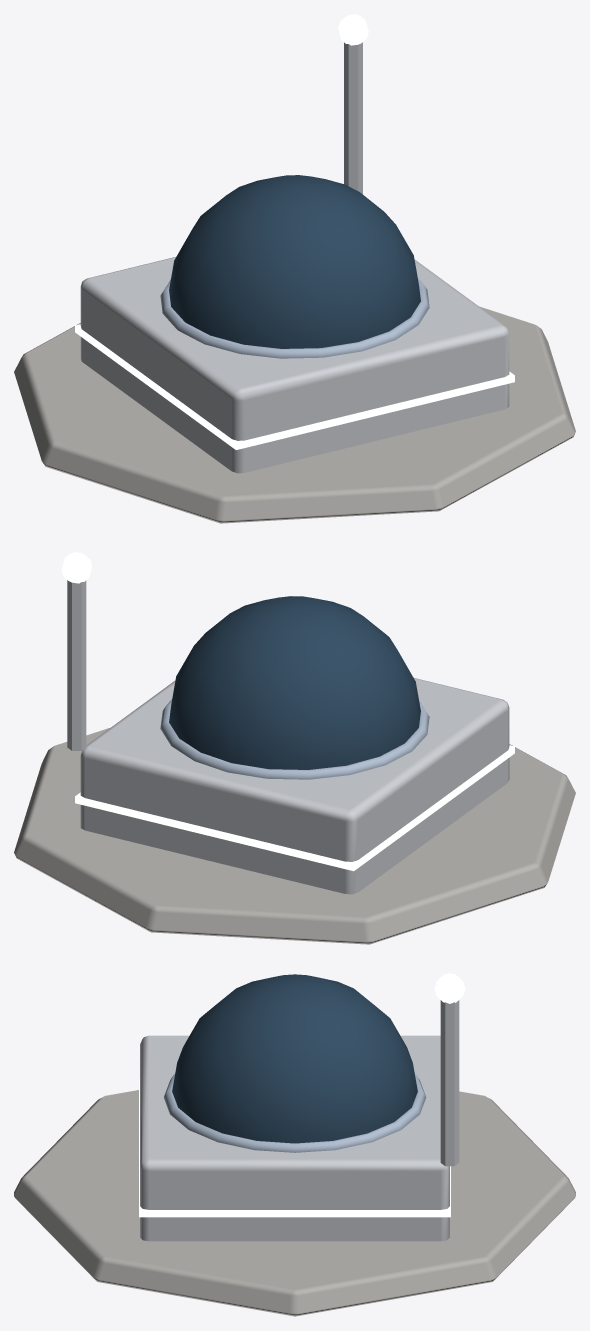
The model's file is research.glb.
3 views of the same model, one above another, from view 1: azimuth 30°, elevation 25°; view 2: azimuth 150°, elevation 25°; view 3: azimuth 270°, elevation 25° (orthographic). The views are drawn at different scales.
Parts seen in each view (by area): view 1: research; view 2: research; view 3: research.
Boxes of the visible parts, x1,y1,x2,y2 form: research: [14, 14, 575, 523]; research: [14, 552, 575, 944]; research: [14, 973, 575, 1316].
Bounding box in the file's own units: 0.907 × 0.535 × 0.907.
